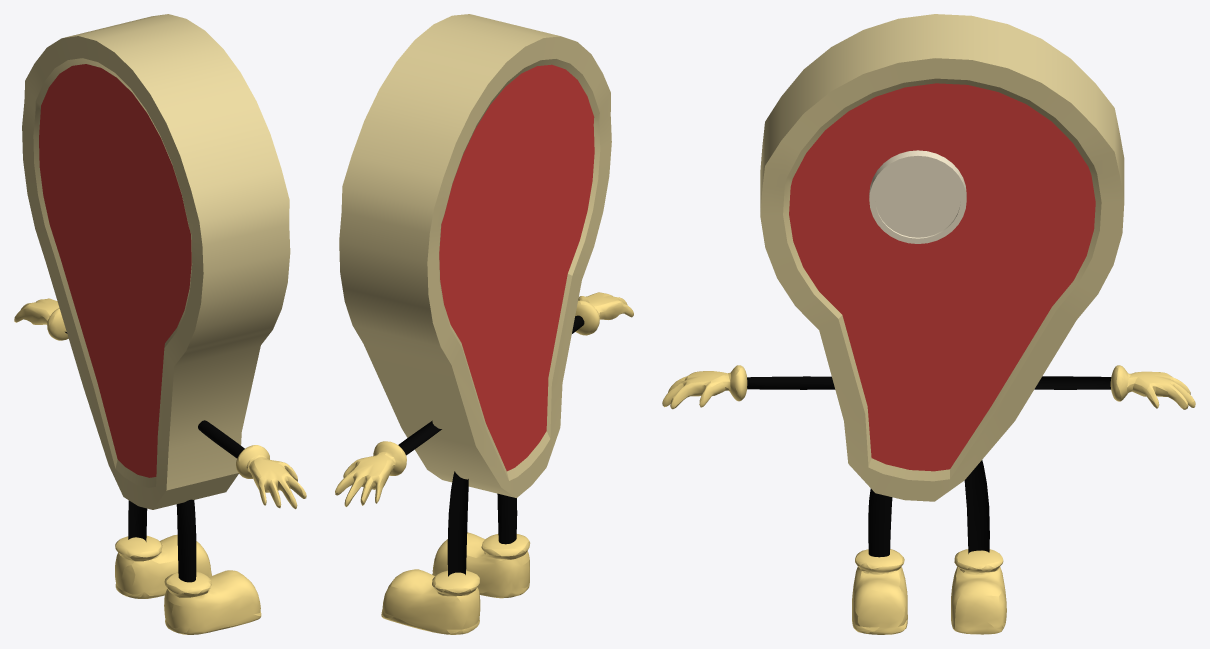
File: fileteModel.fbx
3 renders of one model, left to right at view 1: azimuth 30°, elevation 25°; view 2: azimuth 150°, elevation 25°; view 3: azimuth 270°, elevation 25°, orthographic.
Parts seen in each view (by area): view 1: Cilindro.001, Cubo.006; view 2: Cilindro.001, Cubo.006; view 3: Cilindro.001, Cubo.006.
Boxes of the visible parts, x1,y1,x2,y2 form: Cilindro.001: (22,14,290,509); Cubo.006: (14,298,306,634); Cilindro.001: (339,14,611,497); Cubo.006: (335,292,633,634); Cilindro.001: (760,14,1124,501); Cubo.006: (662,365,1195,634).
Size of the model in its own units: 445 by 2153 by 1829.
